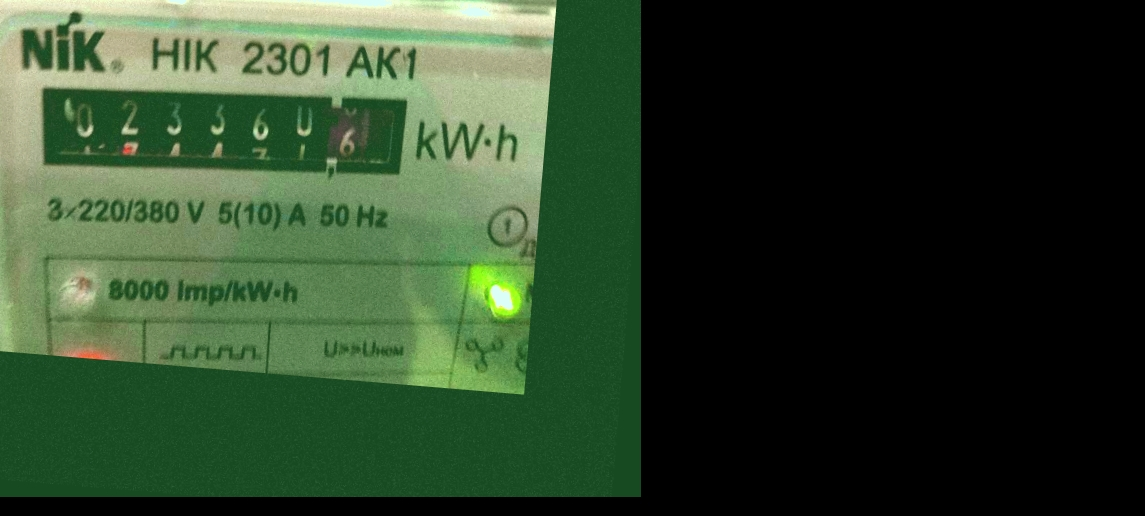0: (69, 96, 98, 140), (290, 99, 316, 138)
2: (114, 94, 143, 136)
3: (161, 95, 185, 137), (203, 97, 228, 137)
6: (245, 100, 274, 143), (336, 122, 360, 160)
screen: (12, 53, 422, 203)
